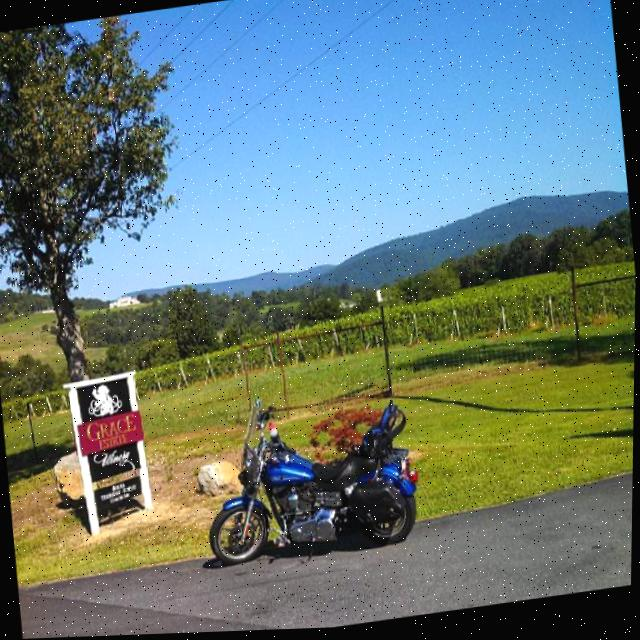motorcycle: (188, 376, 433, 575)
